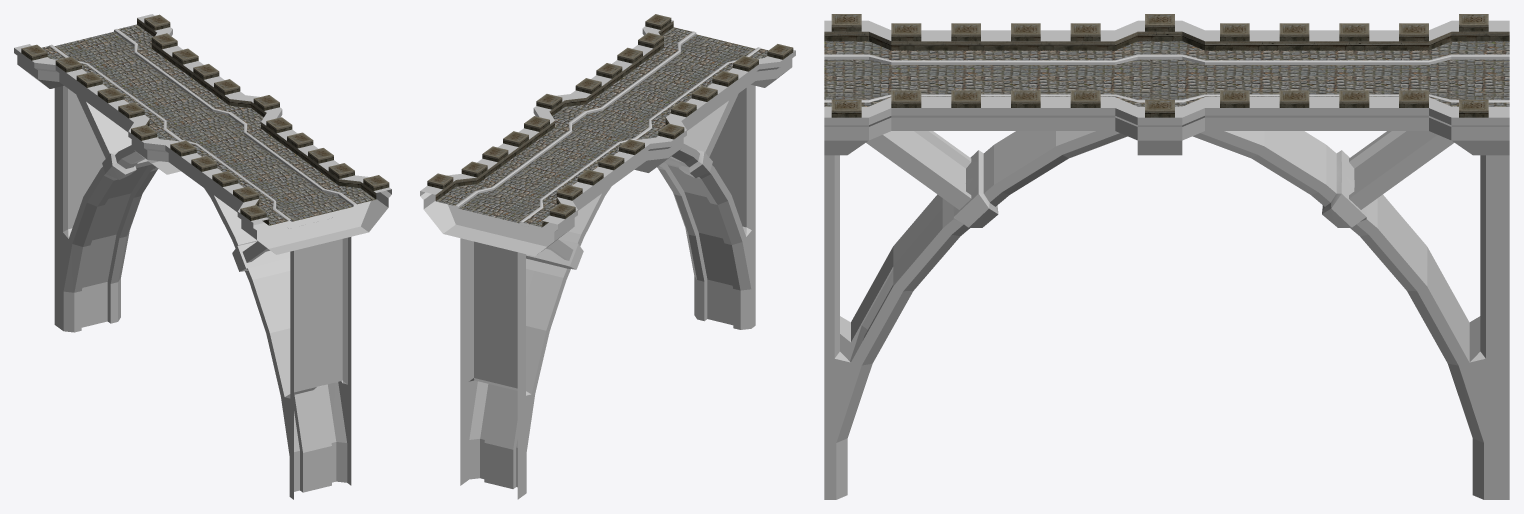
File: SM_BridgeCourtyard.FBX
3 views of the same model, side by side, from view 1: azimuth 30°, elevation 25°; view 2: azimuth 150°, elevation 25°; view 3: azimuth 270°, elevation 25° (orthographic). The views are drawn at different scales.
Parts seen in each view (by area): view 1: SM_BridgeCourtyard; view 2: SM_BridgeCourtyard; view 3: SM_BridgeCourtyard.
Boxes of the visible parts, bbox=[...] form: SM_BridgeCourtyard: bbox=[14, 14, 391, 499]; SM_BridgeCourtyard: bbox=[420, 14, 795, 499]; SM_BridgeCourtyard: bbox=[824, 14, 1509, 499].
Size of what is drawn, in the model's own units: 981 by 2937 by 1973.
